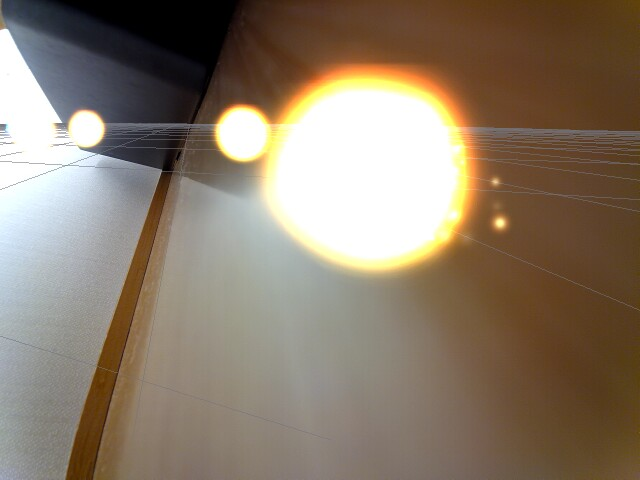firebig: (270, 26, 486, 300)
